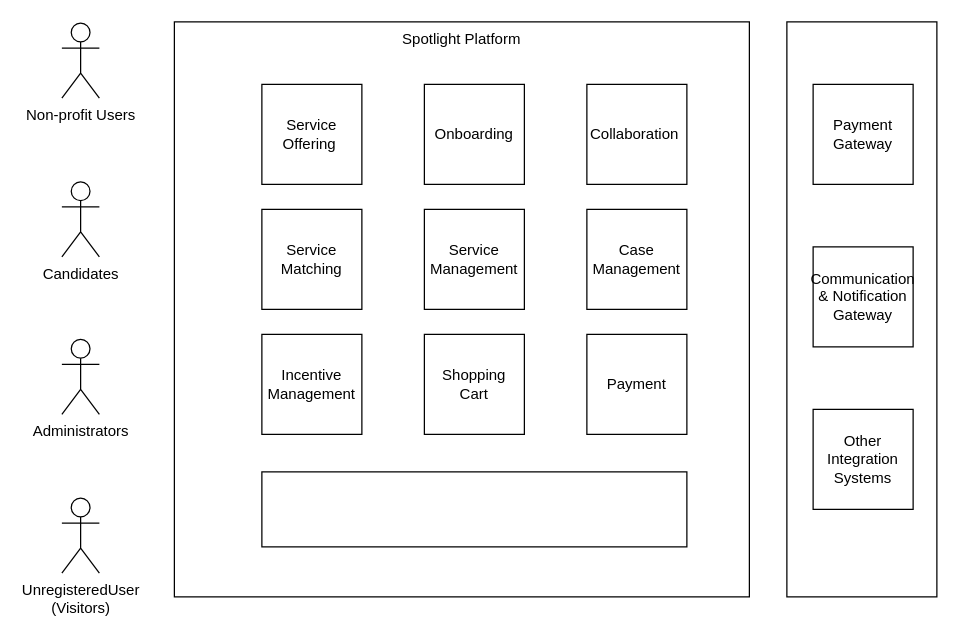
Image size: 959x640. Some labels were removed from this diagram. Each missing label, with the box of its shape:
External Systems: (786, 21, 937, 597)
Platform Management, Reporting & Analytics: (261, 471, 687, 547)
